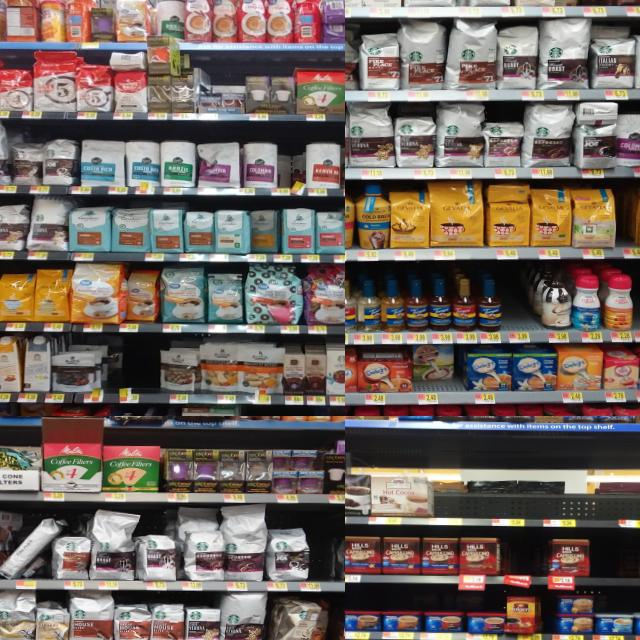100% O.O.S: (542, 484, 615, 526), (432, 482, 488, 524), (501, 270, 532, 344), (491, 483, 540, 526), (592, 538, 636, 584), (512, 538, 538, 584), (617, 484, 640, 527), (632, 276, 640, 341)
100- O.O.S: (126, 336, 157, 402), (309, 520, 332, 592), (268, 405, 310, 416), (243, 406, 264, 416)
